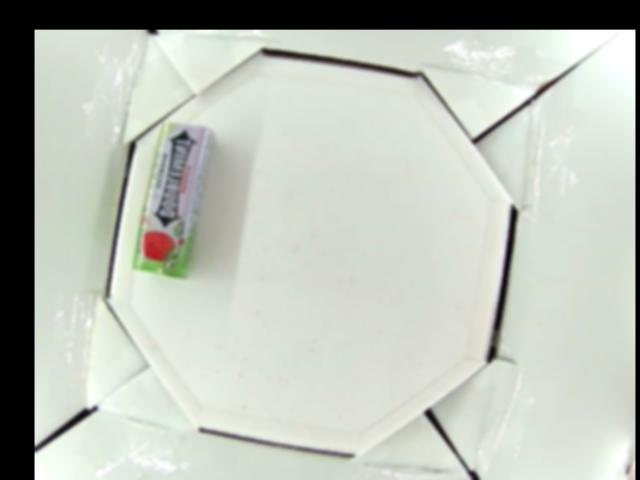Bottle: (130, 121, 216, 281)
